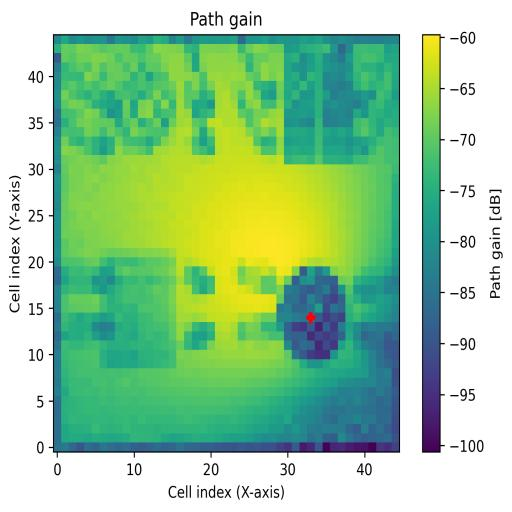Concrete: (284, 45, 370, 166)
Glass: (84, 54, 176, 155)
Metal: (276, 266, 346, 370)
Wood: (99, 256, 176, 368)
